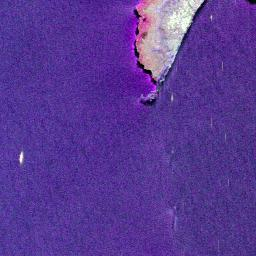Ship: (15, 147, 29, 166), (166, 91, 178, 103), (209, 12, 214, 24)
